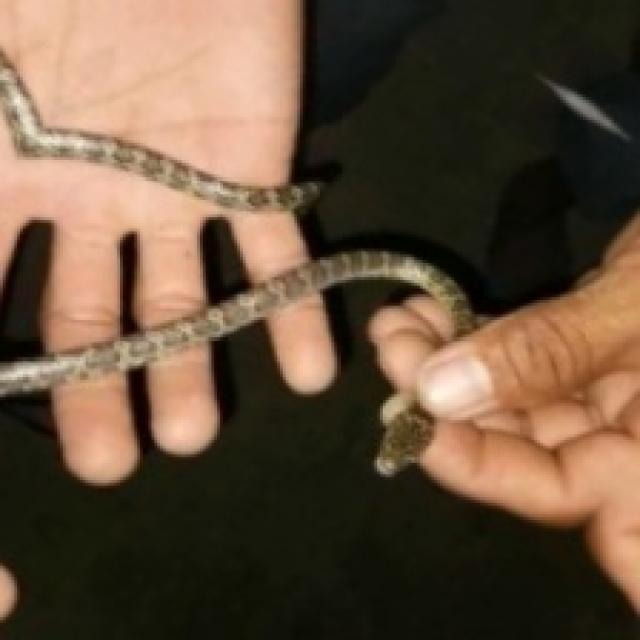mullers wolf snake: (0, 0, 471, 483)
